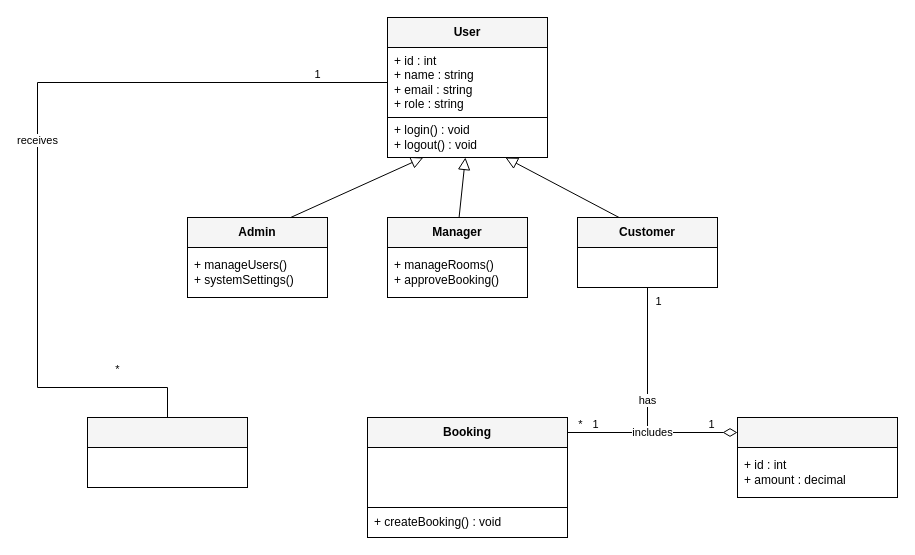
Some shapes in this 915 by 555 pixel diagram are drawn without their labels. Each missing label, with the centre of its shape:
"+ id : int + check_in : datetime + status : string" belongs at (x=467, y=477).
"+ id : int + message : string" belongs at (x=167, y=467).
"+ is_premium : bool + premium_tier : string" belongs at (x=647, y=267).
"Notification" belongs at (x=167, y=432).
"Payment" belongs at (x=817, y=432).
